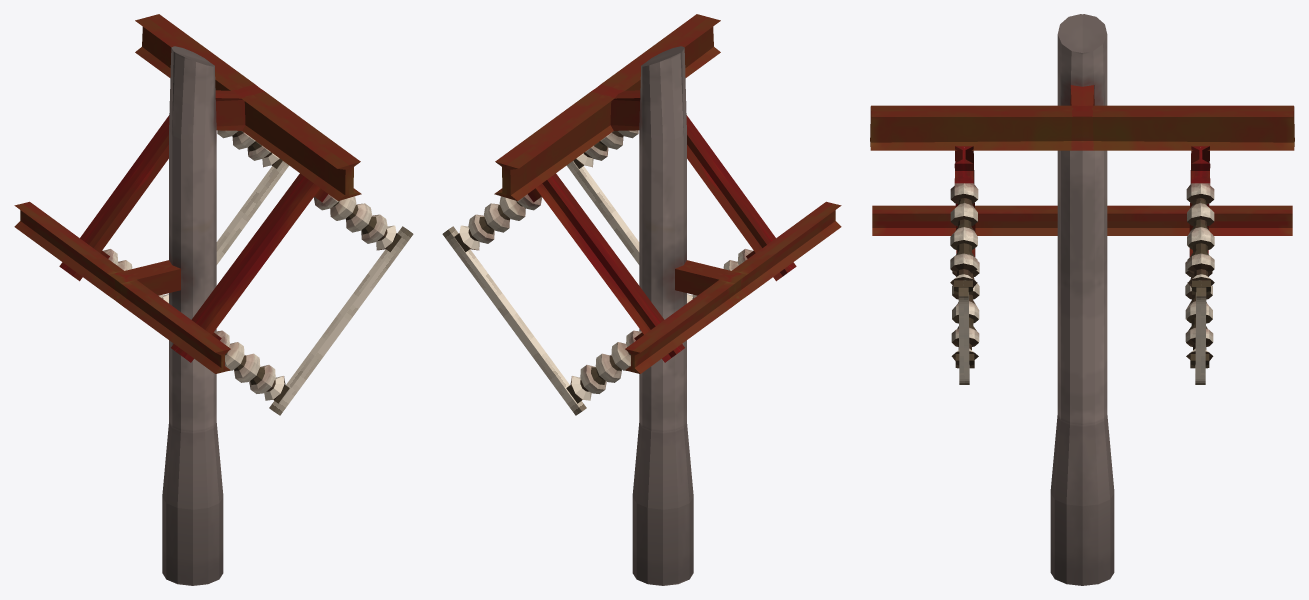
Rendered from GridBreaker_hasfuse.obj.
3 views of the same model, side by side, from view 1: azimuth 30°, elevation 25°; view 2: azimuth 150°, elevation 25°; view 3: azimuth 270°, elevation 25° (orthographic). The views are drawn at different scales.
Parts seen in each view (by area): view 1: main; view 2: main; view 3: main.
Part boxes in pixels (x1=…): main: x1=14, y1=14, x2=413, y2=585; main: x1=442, y1=14, x2=841, y2=585; main: x1=870, y1=14, x2=1294, y2=585.
Bounding box in the file's own units: 3.91 × 8.2 × 5.75.
Materials: 3 (3 with a texture image).
